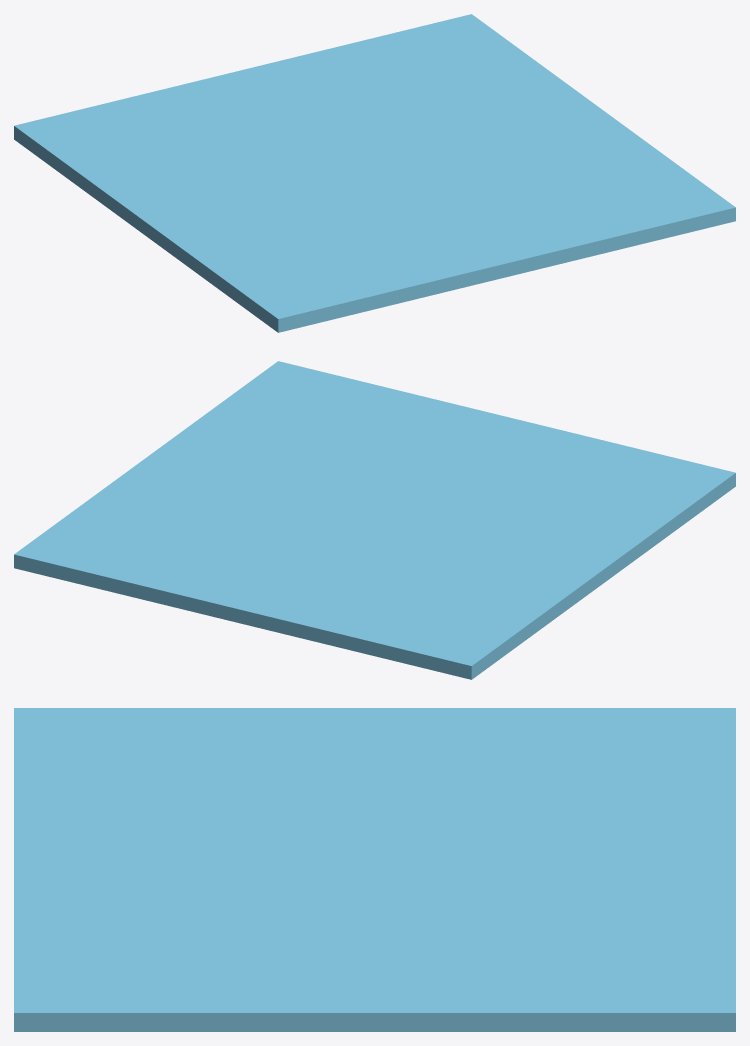
3 renders of one model, top to bottom at view 1: azimuth 30°, elevation 25°; view 2: azimuth 150°, elevation 25°; view 3: azimuth 270°, elevation 25°, orthographic. The views are drawn at different scales.
Parts seen in each view (by area): view 1: Grid; view 2: Grid; view 3: Grid.
Part boxes in pixels (bbox=[...]): Grid: bbox=[14, 14, 735, 332]; Grid: bbox=[14, 361, 735, 679]; Grid: bbox=[14, 708, 735, 1031].
Bounding box in the file's own units: 2 × 2 × 0.0575.
